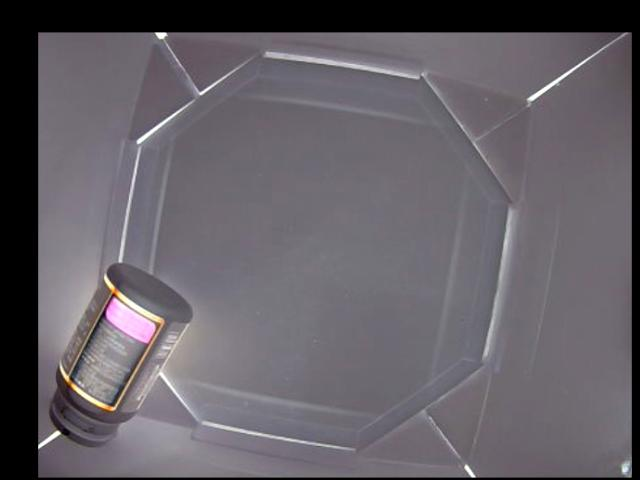Bottle: (42, 256, 194, 446)
